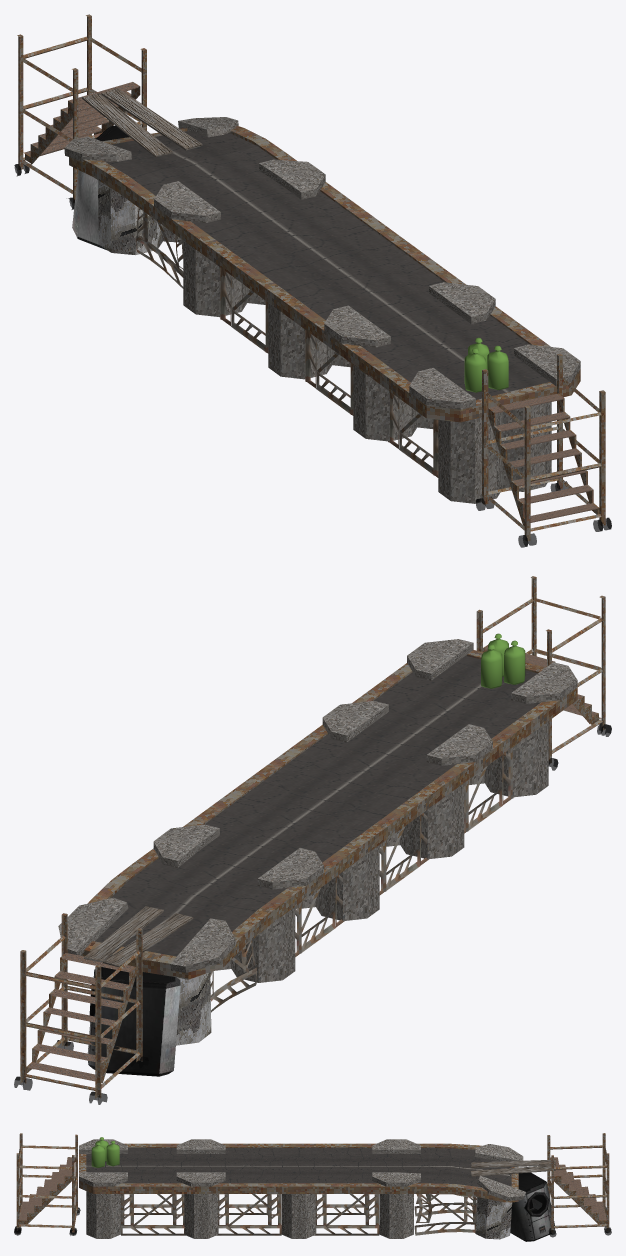
File: launch_pad.fbx
The picture shows the model from 3 angles, top to bottom: view 1: azimuth 30°, elevation 25°; view 2: azimuth 150°, elevation 25°; view 3: azimuth 270°, elevation 25°; orthographic projection. The views are drawn at different scales.
Parts seen in each view (by area): view 1: LandingPad, MainSupports, Ribbing, LightPortions, Stairs.002, Stairs.001, Grates, Ship_Hull, Planks.001, Planks, Grates_Damaged, BottleRockets.002 (+1 smaller); view 2: LandingPad, LightPortions, MainSupports, Ribbing, Stairs.001, Ship_Hull, Stairs.002, Grates, Planks.001, Planks, Grates_Damaged, BottleRockets.001 (+1 smaller); view 3: LandingPad, MainSupports, Ribbing, LightPortions, Grates, Stairs.002, Stairs.001, Ship_Hull, Grates_Damaged, Planks.001, Planks, BottleRockets.001 (+1 smaller).
Part boxes in pixels (<box>): LandingPad: <box>106,131,549,399</box>; MainSupports: <box>98,180,551,503</box>; Ribbing: <box>69,126,580,422</box>; LightPortions: <box>64,117,580,409</box>; Stairs.002: <box>475,353,611,547</box>; Stairs.001: <box>14,14,146,209</box>; Grates: <box>220,267,438,477</box>; Ship_Hull: <box>72,125,129,250</box>; Planks.001: <box>101,88,202,150</box>; Planks: <box>82,93,173,157</box>; Grates_Damaged: <box>136,208,183,288</box>; BottleRockets.002: <box>487,345,508,390</box>; LandingPad: <box>95,655,540,956</box>; LightPortions: <box>58,639,577,972</box>; MainSupports: <box>176,721,548,1045</box>; Ribbing: <box>80,650,577,979</box>; Stairs.001: <box>14,913,148,1104</box>; Ship_Hull: <box>87,967,180,1076</box>; Stairs.002: <box>476,576,611,770</box>; Grates: <box>295,747,513,956</box>; Planks.001: <box>84,906,163,962</box>; Planks: <box>103,913,193,967</box>; Grates_Damaged: <box>210,940,256,1012</box>; BottleRockets.001: <box>481,644,502,688</box>; LandingPad: <box>86,1148,511,1187</box>; MainSupports: <box>86,1191,512,1239</box>; Ribbing: <box>79,1143,518,1202</box>; LightPortions: <box>79,1139,525,1200</box>; Grates: <box>121,1194,379,1235</box>; Stairs.002: <box>14,1133,80,1235</box>; Stairs.001: <box>547,1133,611,1237</box>; Ship_Hull: <box>510,1172,554,1241</box>; Grates_Damaged: <box>414,1194,476,1235</box>; Planks.001: <box>470,1165,555,1176</box>; Planks: <box>471,1159,555,1168</box>; BottleRockets.001: <box>106,1141,119,1166</box>.
Bounding box in the file's own units: 406 × 390 × 2262.
